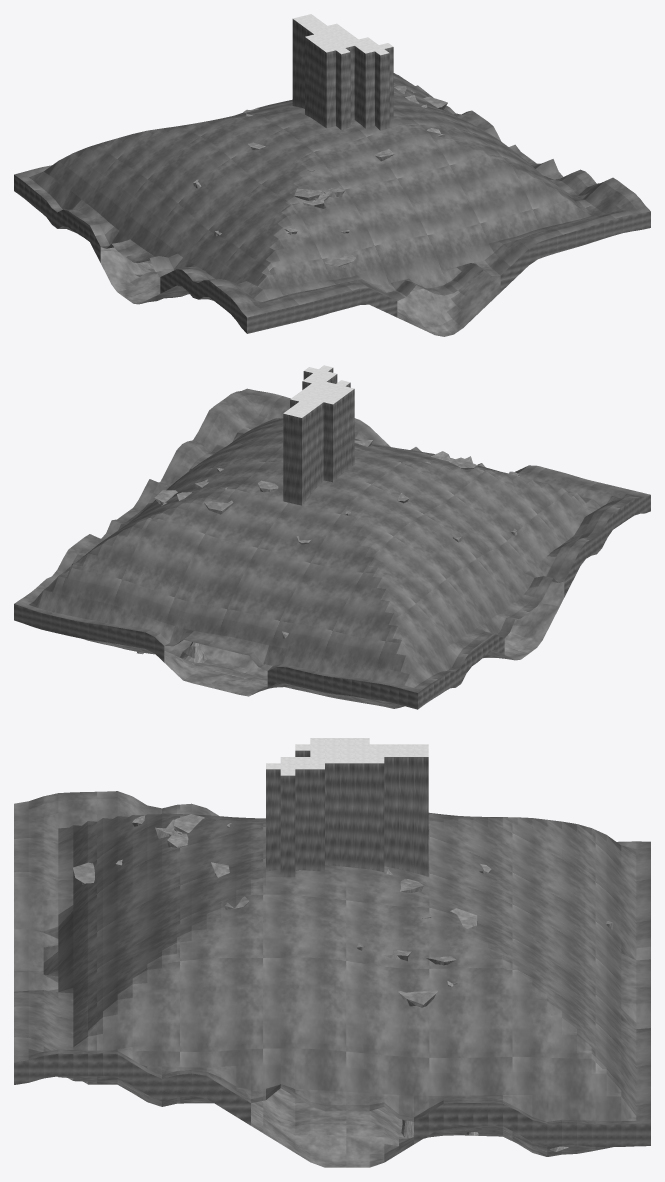
The picture shows the model from 3 angles, top to bottom: view 1: azimuth 30°, elevation 25°; view 2: azimuth 150°, elevation 25°; view 3: azimuth 270°, elevation 25°; orthographic projection. The views are drawn at different scales.
Visible parts, largest first — view 1: CavernVault, CavernWalls, CavernShaft, CavernFloor, CavernSkyCap, CavernStalactites, CavernColumns; view 2: CavernVault, CavernWalls, CavernFloor, CavernShaft, CavernSkyCap, CavernStalactites; view 3: CavernVault, CavernShaft, CavernWalls, CavernFloor, CavernSkyCap, CavernStalactites, CavernColumns.
Part boxes in pixels (x1,y1,x2,y2): CavernVault: (14,73,650,317); CavernWalls: (14,175,650,333); CavernShaft: (292,19,393,130); CavernFloor: (58,226,500,336); CavernSkyCap: (293,14,393,55); CavernStalactites: (193,86,447,267); CavernColumns: (302,128,444,208); CavernVault: (14,388,650,692); CavernWalls: (14,495,650,709); CavernFloor: (82,581,564,708); CavernShaft: (283,368,354,505); CavernSkyCap: (283,365,353,417); CavernStalactites: (154,440,519,638); CavernVault: (14,791,650,1124); CavernShaft: (266,750,428,877); CavernWalls: (14,1053,650,1147); CavernFloor: (57,1076,612,1167); CavernSkyCap: (266,738,428,775); CavernStalactites: (73,814,613,1007); CavernColumns: (155,819,249,909).
Size of the model in its own units: 92 by 50.06 by 92.
Materials: 6 (6 with a texture image).
